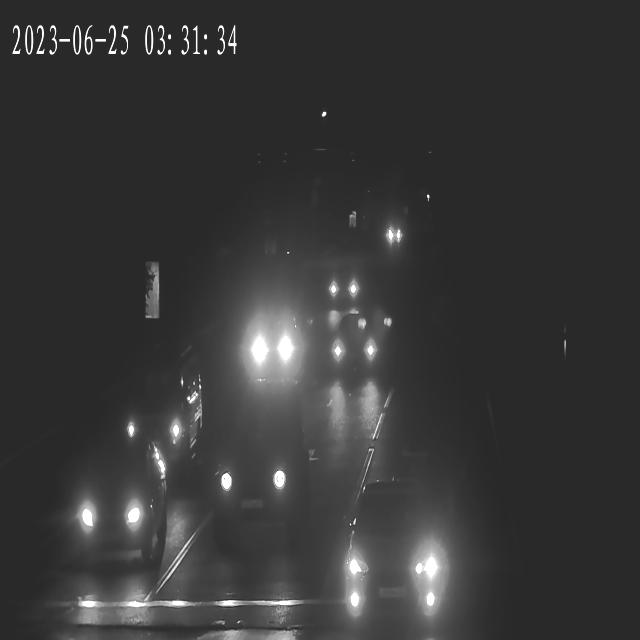Car: (342, 484, 456, 618), (61, 450, 168, 572), (201, 432, 301, 524), (124, 376, 202, 454), (238, 308, 306, 378), (324, 326, 386, 383), (324, 268, 366, 308), (377, 226, 402, 248), (380, 229, 403, 249)
